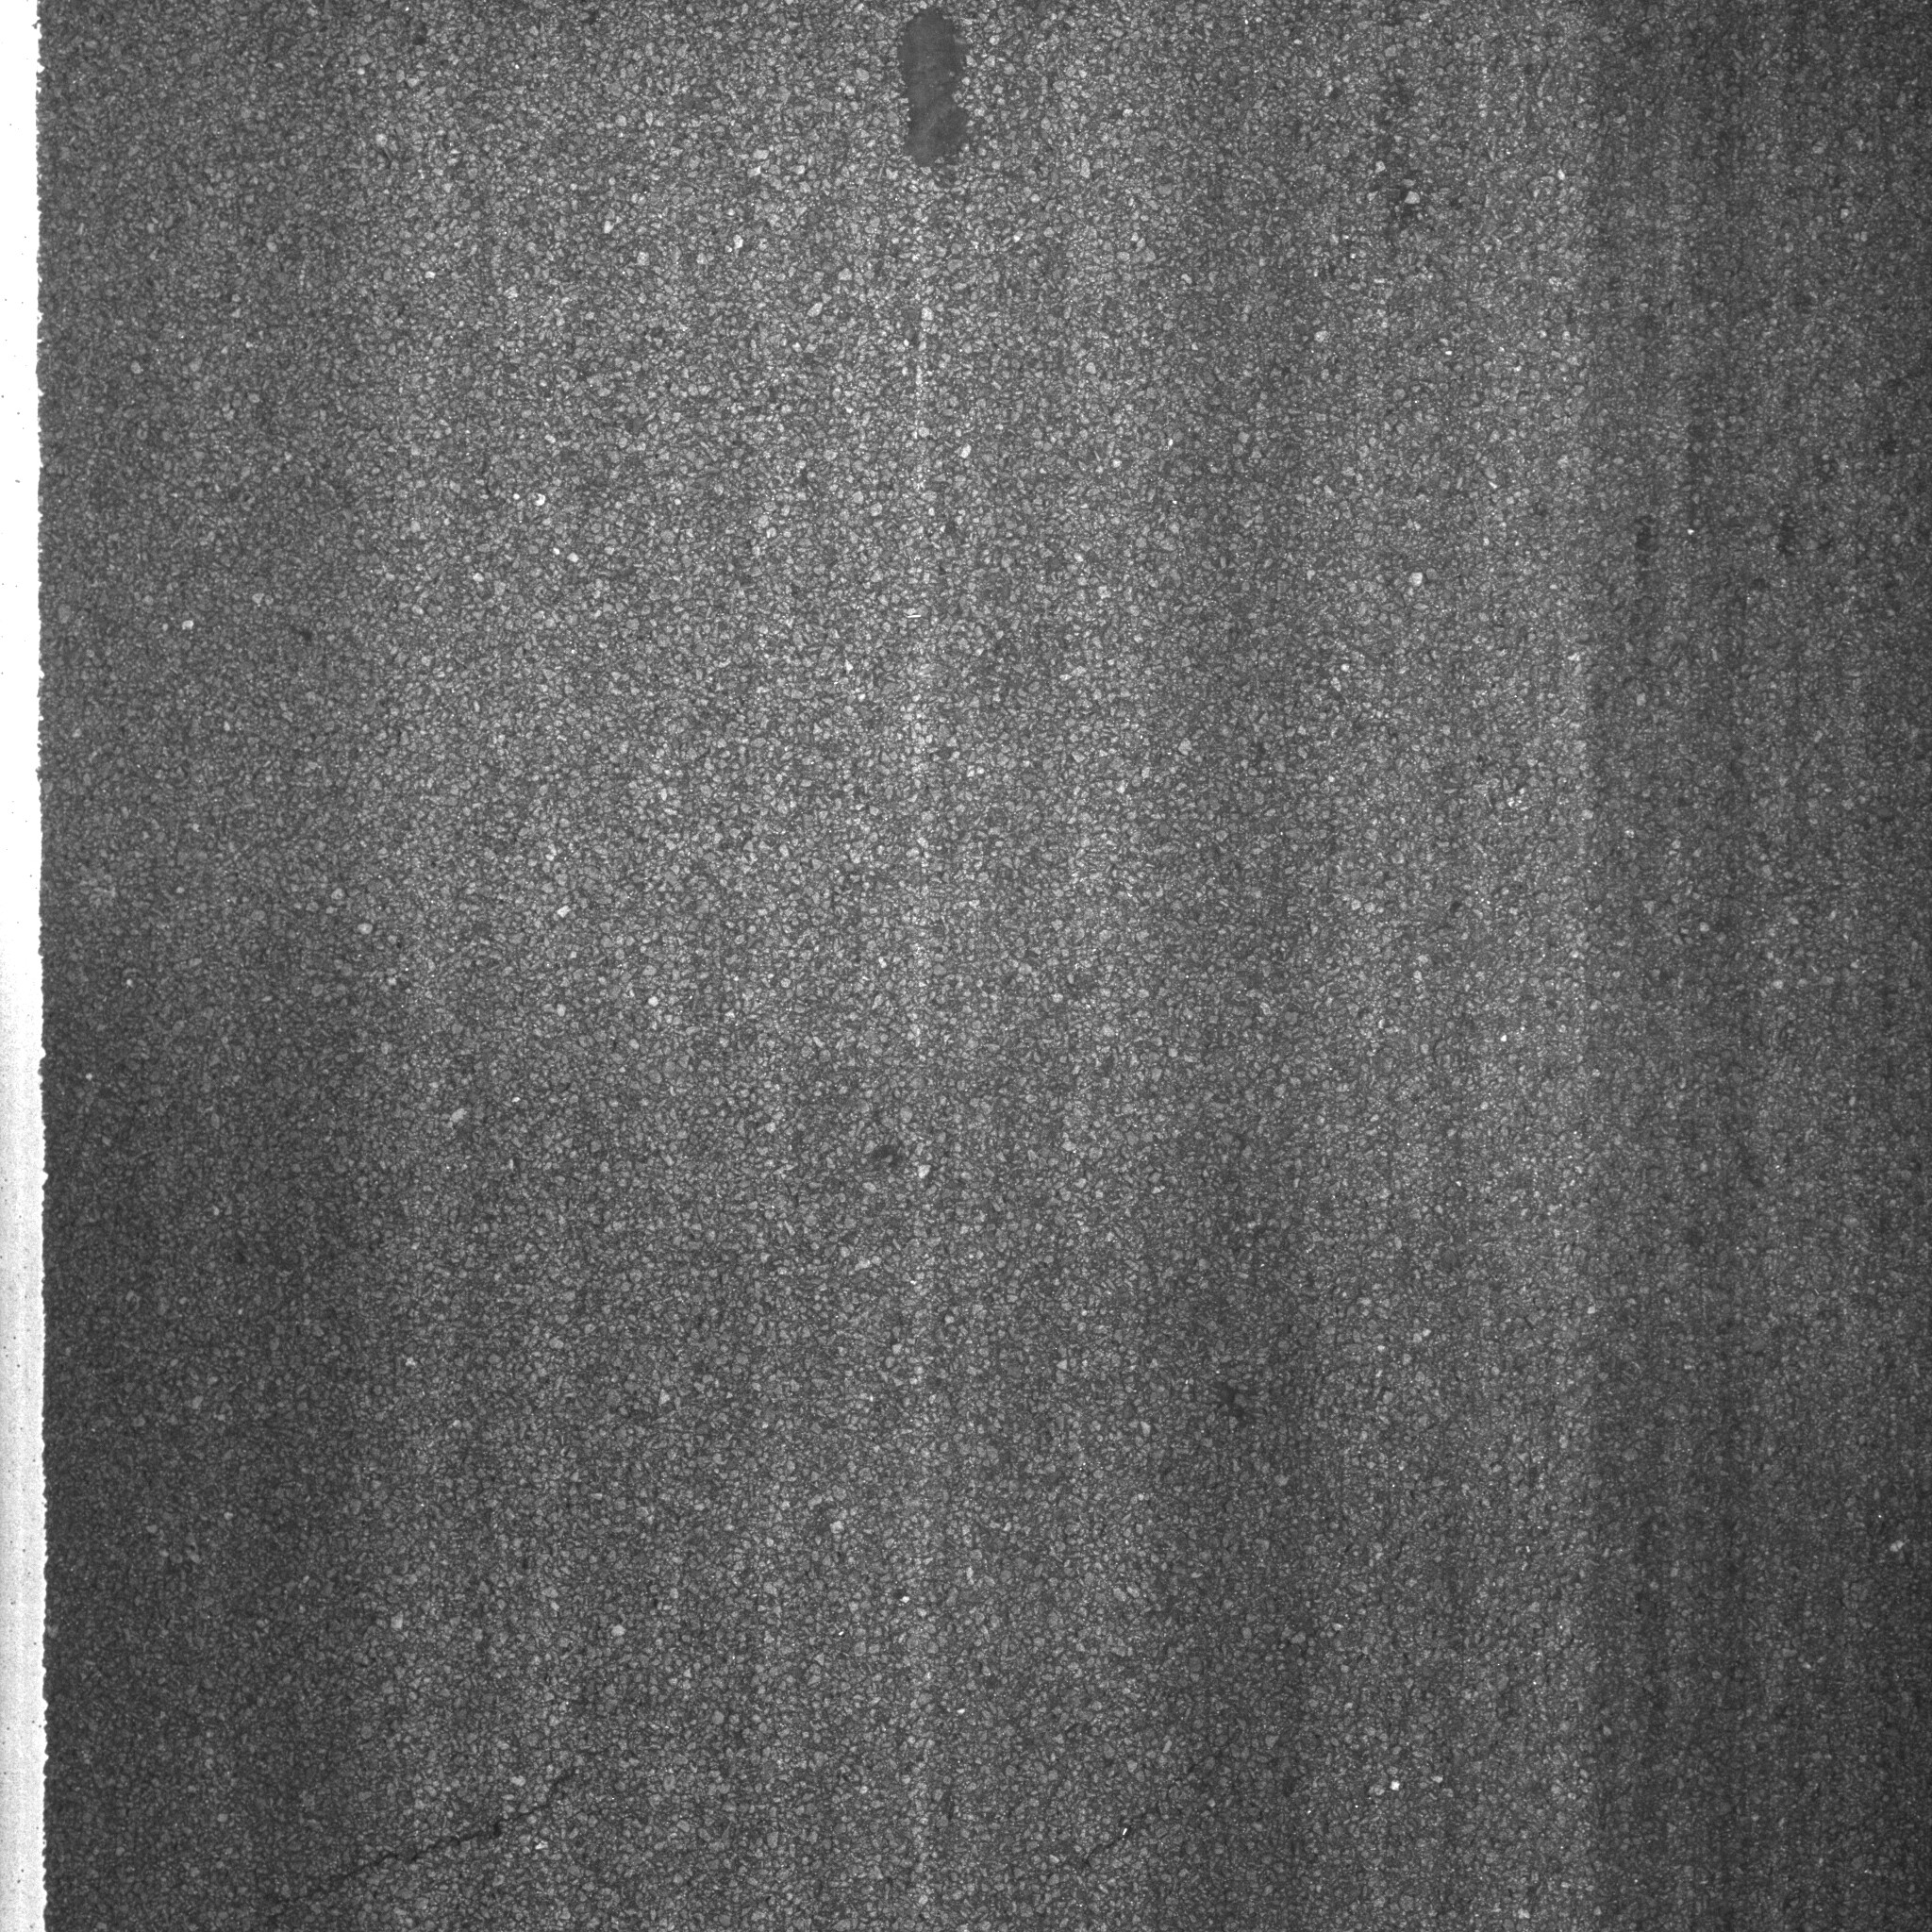transverse: (99, 1743, 679, 1923)
